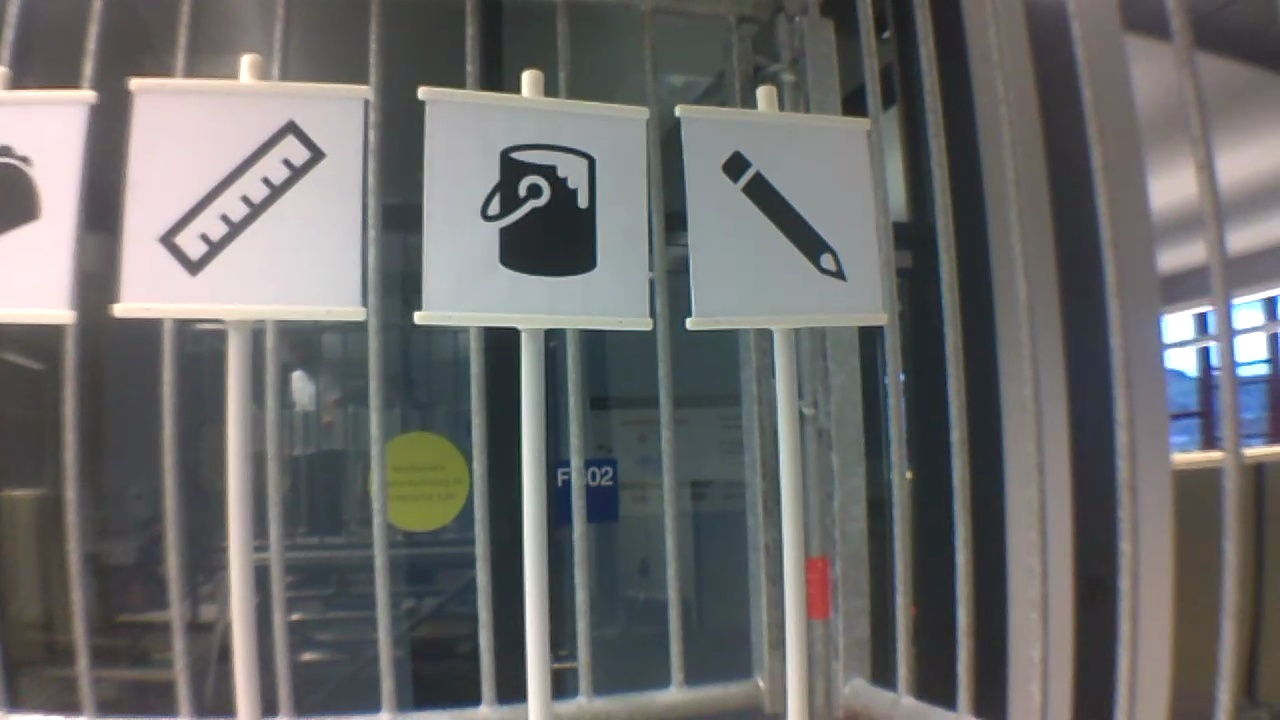bucket: (473, 140, 606, 282)
pencil: (715, 144, 857, 290)
ruler: (150, 112, 329, 281)
